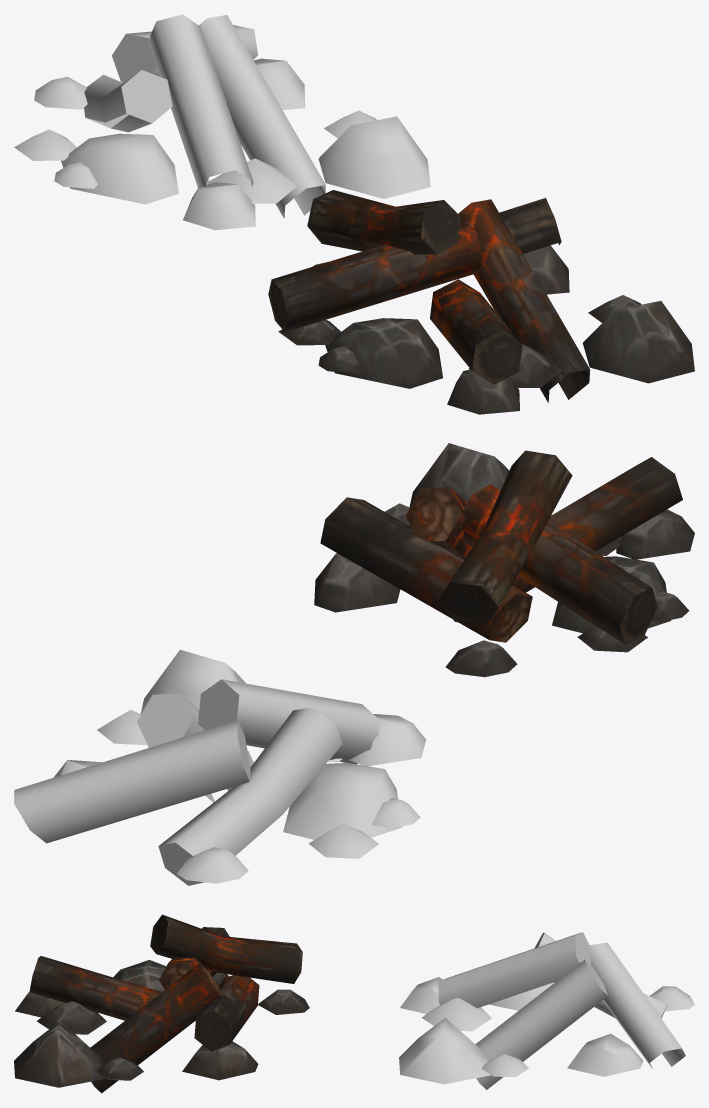
The model's file is 2_Misc_HuoDui_01.FBX.
3 views of the same model, one above another, from view 1: azimuth 30°, elevation 25°; view 2: azimuth 150°, elevation 25°; view 3: azimuth 270°, elevation 25° (orthographic). The views are drawn at different scales.
Parts seen in each view (by area): view 1: 2_Misc_HuoDui_01, 2_Misc_HuoDui_02; view 2: 2_Misc_HuoDui_01, 2_Misc_HuoDui_02; view 3: 2_Misc_HuoDui_01, 2_Misc_HuoDui_02.
Boxes of the visible parts, x1,y1,x2,y2 form: 2_Misc_HuoDui_01: (268, 190, 694, 414); 2_Misc_HuoDui_02: (14, 14, 430, 230); 2_Misc_HuoDui_01: (314, 443, 694, 677); 2_Misc_HuoDui_02: (14, 649, 425, 885); 2_Misc_HuoDui_01: (14, 914, 309, 1093); 2_Misc_HuoDui_02: (399, 932, 694, 1089).
Bounding box in the file's own units: 121 × 67.93 × 296.
